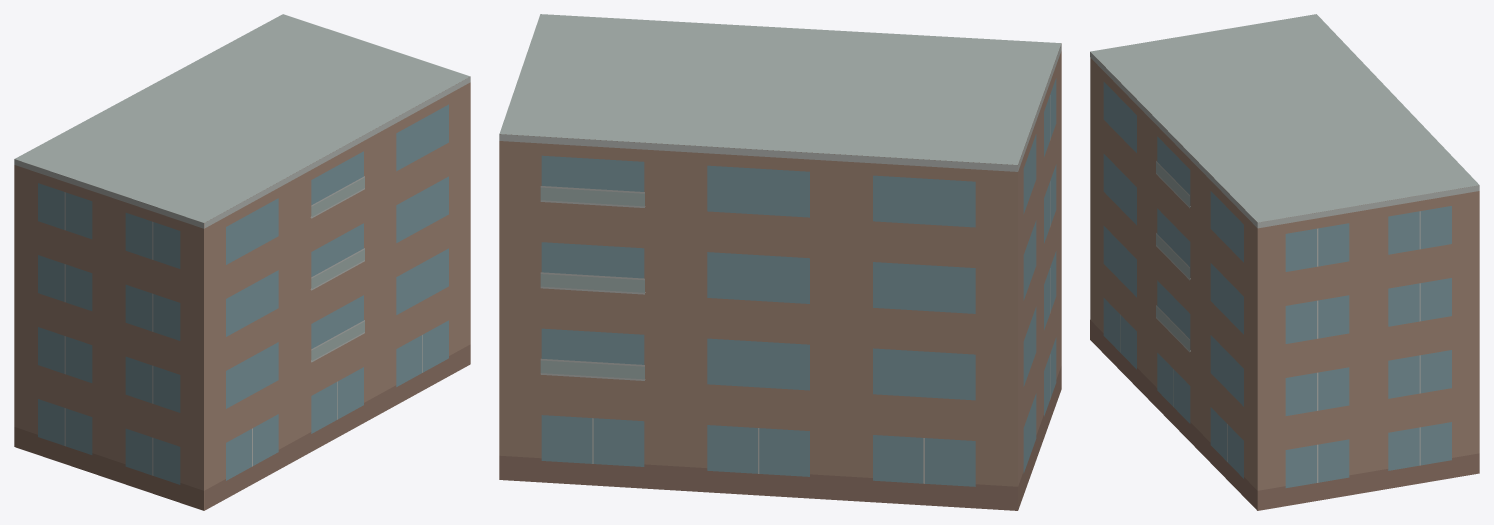
Rendered from survey-upis-32896392.glb.
3 views of the same model, side by side, from view 1: azimuth 30°, elevation 25°; view 2: azimuth 150°, elevation 25°; view 3: azimuth 270°, elevation 25° (orthographic). The views are drawn at different scales.
Parts seen in each view (by area): view 1: survey-upis-32896392.tmp; view 2: survey-upis-32896392.tmp; view 3: survey-upis-32896392.tmp.
Boxes of the visible parts, <box> form: survey-upis-32896392.tmp: <box>14,14,470,510</box>; survey-upis-32896392.tmp: <box>499,14,1061,510</box>; survey-upis-32896392.tmp: <box>1090,14,1479,510</box>.
Size of the model in its own units: 18.95 by 12.2 by 14.95.
